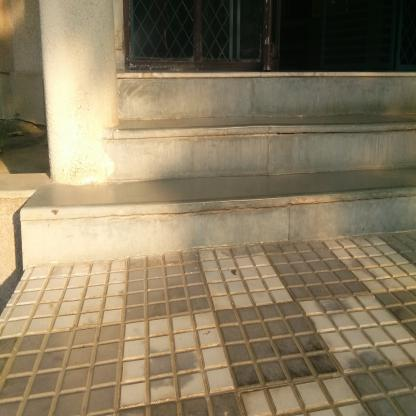stairs: (164, 70, 376, 256)
